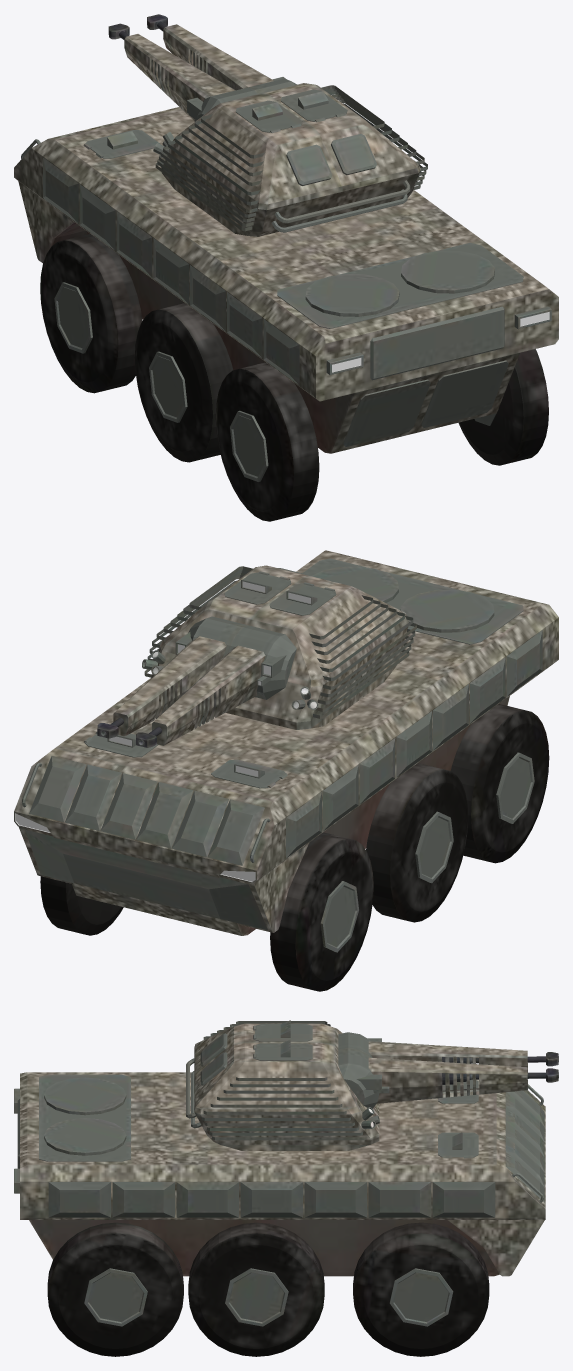
The model's file is avs_2.glb.
3 renders of one model, top to bottom at view 1: azimuth 30°, elevation 25°; view 2: azimuth 150°, elevation 25°; view 3: azimuth 270°, elevation 25°, orthographic. The views are drawn at different scales.
Parts seen in each view (by area): view 1: Sphere.001, Sphere.006, wheel.002, wheel, wheel.001, Cannon, wheel.005; view 2: Sphere.001, Sphere.006, Cannon, wheel.001, wheel, wheel.002, wheel.003; view 3: Sphere.001, Sphere.006, wheel.004, wheel.005, wheel.003, Cannon.
Part boxes in pixels (bbox=[...]): Sphere.001: bbox=[14, 107, 558, 453]; Sphere.006: bbox=[153, 83, 427, 236]; wheel.002: bbox=[215, 362, 319, 521]; wheel: bbox=[40, 234, 142, 393]; wheel.001: bbox=[134, 303, 233, 462]; Cannon: bbox=[108, 14, 296, 121]; wheel.005: bbox=[458, 349, 548, 465]; Sphere.001: bbox=[14, 550, 558, 935]; Sphere.006: bbox=[142, 565, 416, 729]; Cannon: bbox=[97, 616, 296, 747]; wheel.001: bbox=[366, 763, 468, 922]; wheel: bbox=[270, 832, 373, 991]; wheel.002: bbox=[450, 704, 549, 863]; wheel.003: bbox=[40, 876, 123, 935]; Sphere.001: bbox=[14, 1072, 545, 1276]; Sphere.006: bbox=[186, 1020, 380, 1150]; wheel.004: bbox=[188, 1222, 324, 1356]; wheel.005: bbox=[47, 1222, 183, 1356]; wheel.003: bbox=[353, 1222, 489, 1356]; Cannon: bbox=[338, 1032, 558, 1108].
Bounding box in the file's own units: 0.4109 × 0.4539 × 0.8302.
Materials: 3 (1 with a texture image).
